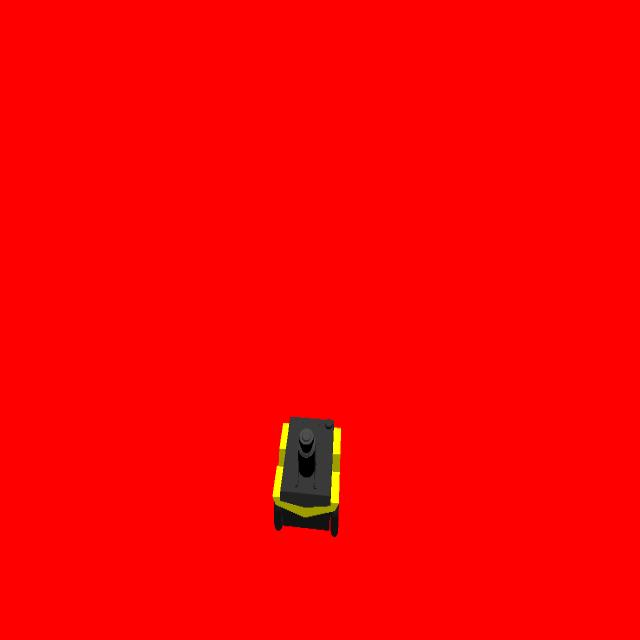jackal: (270, 410, 342, 536)
